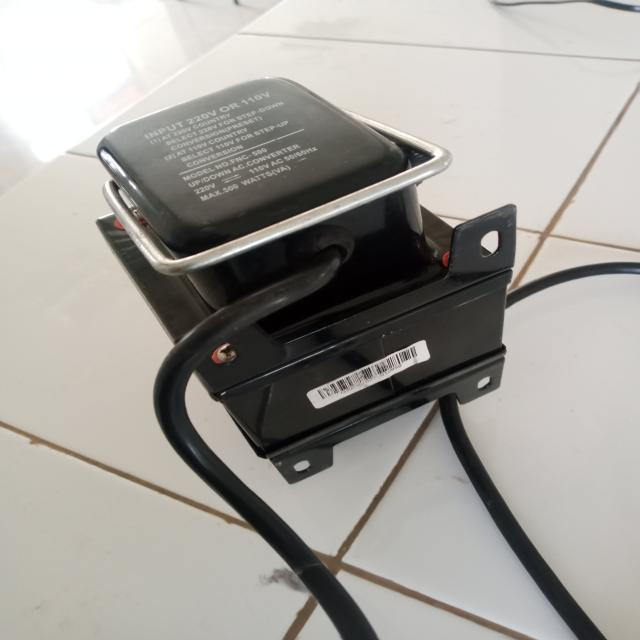Stepdown Transformer: (58, 71, 562, 469)
